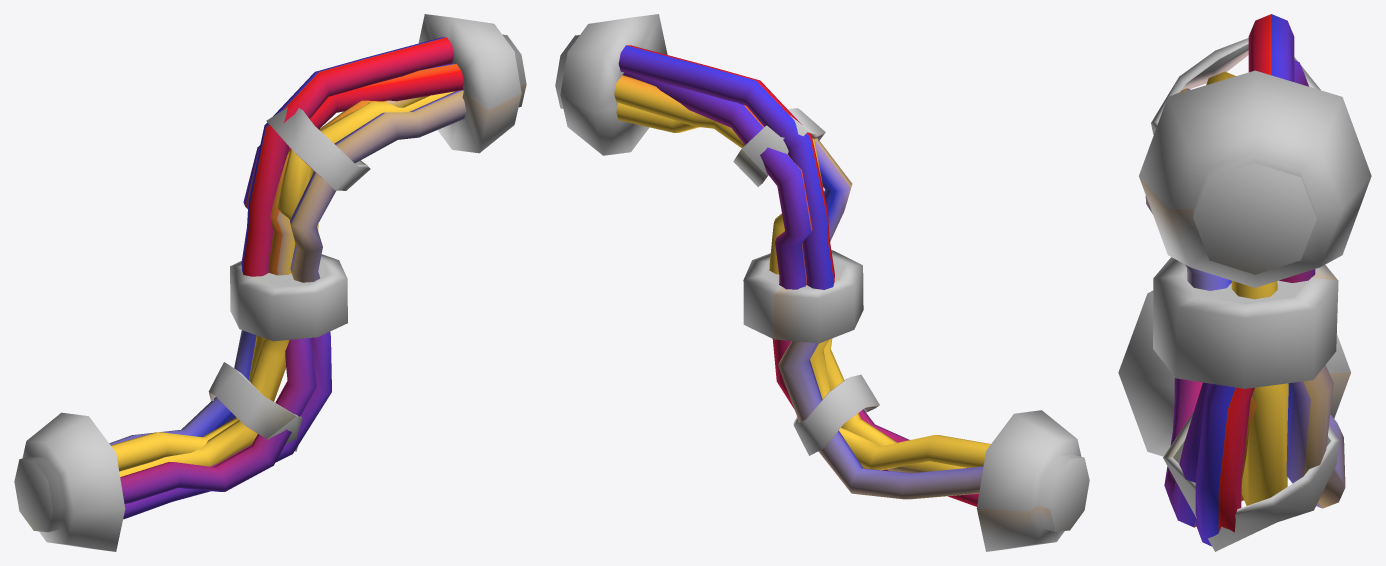
The model's file is cable_bend2_s.fbx.
The picture shows the model from 3 angles, left to right: view 1: azimuth 30°, elevation 25°; view 2: azimuth 150°, elevation 25°; view 3: azimuth 270°, elevation 25°; orthographic projection. The views are drawn at different scales.
Parts seen in each view (by area): view 1: cable_bend2; view 2: cable_bend2; view 3: cable_bend2.
Boxes of the visible parts, <box> form: cable_bend2: <box>14,14,526,551</box>; cable_bend2: <box>555,14,1089,551</box>; cable_bend2: <box>1118,14,1371,551</box>.
Bounding box in the file's own units: 1.06 × 0.9218 × 0.3043.
